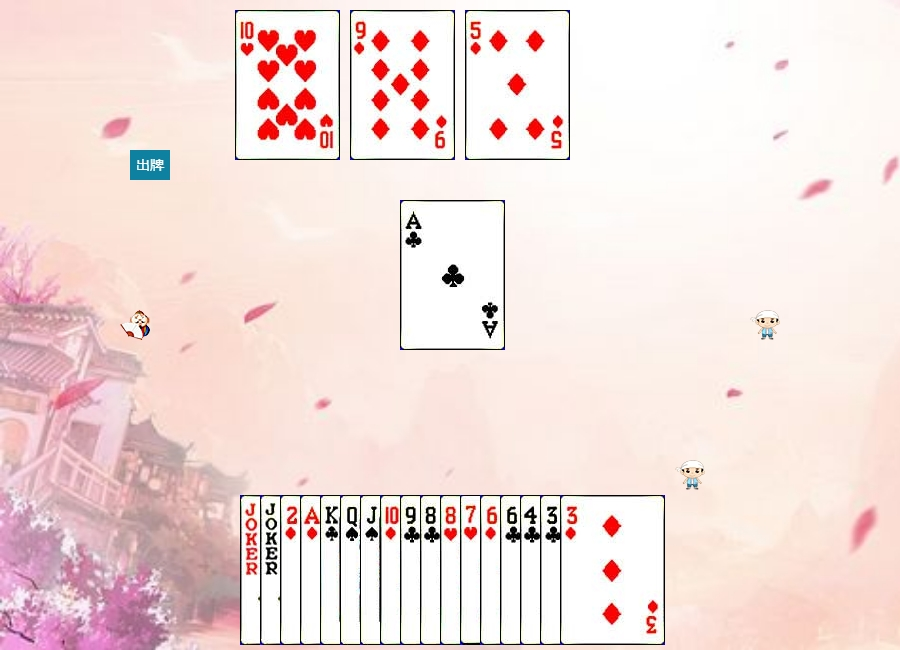10~1: (380, 495, 485, 645)
10~3: (235, 10, 340, 160)
11~4: (360, 495, 465, 645)
12~4: (340, 495, 445, 645)
13~2: (320, 495, 425, 645)
14~1: (300, 495, 405, 645)
14~2: (400, 200, 505, 350)
15~1: (280, 495, 385, 645)
17~3: (260, 495, 365, 645)
18~4: (240, 495, 345, 645)
3~1: (560, 495, 665, 645)
3~2: (540, 495, 645, 645)
4~2: (520, 495, 625, 645)
5~1: (465, 10, 570, 160)
6~1: (480, 495, 585, 645)
6~2: (500, 495, 605, 645)
7~3: (460, 495, 565, 645)
8~2: (420, 495, 525, 645)
8~3: (440, 495, 545, 645)
9~1: (350, 10, 455, 160)
9~2: (400, 495, 505, 645)
